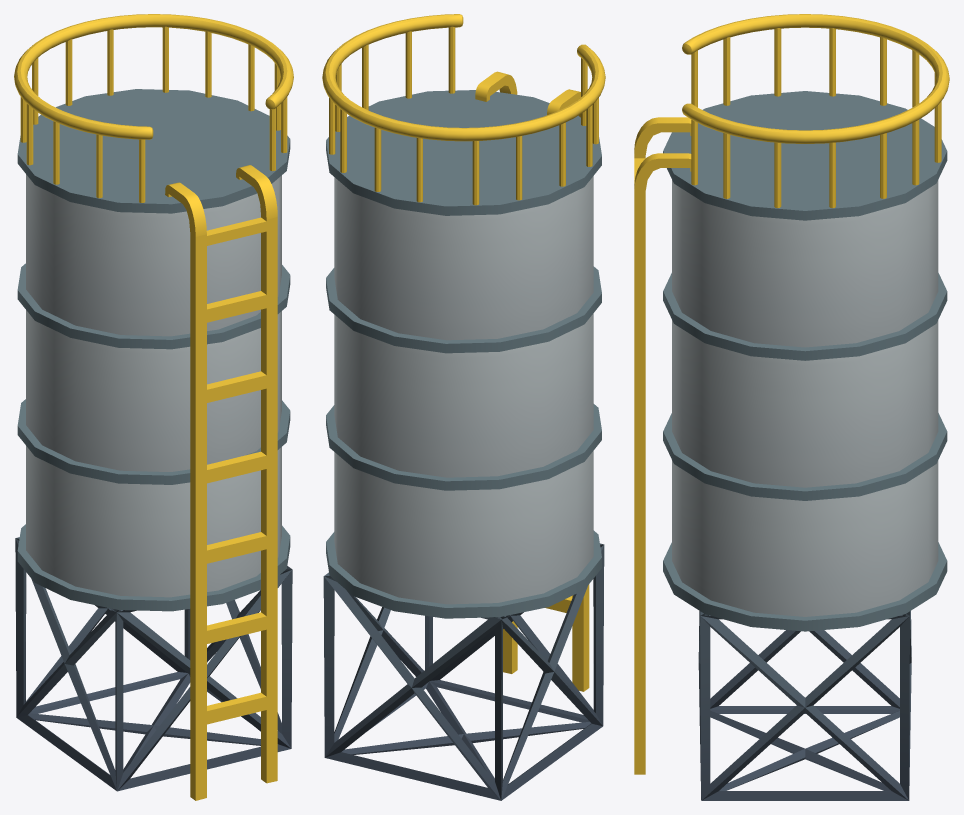
The model's file is Silo.fbx.
The picture shows the model from 3 angles, left to right: view 1: azimuth 30°, elevation 25°; view 2: azimuth 150°, elevation 25°; view 3: azimuth 270°, elevation 25°; orthographic projection. The views are drawn at different scales.
Visible parts, largest first — view 1: Silo; view 2: Silo; view 3: Silo.
Part boxes in pixels (left/top/right/bottom): Silo: left=14, top=14, right=293, bottom=800; Silo: left=322, top=14, right=605, bottom=800; Silo: left=634, top=14, right=949, bottom=800.
Size of the model in its own units: 2.87 by 7.53 by 3.14.
